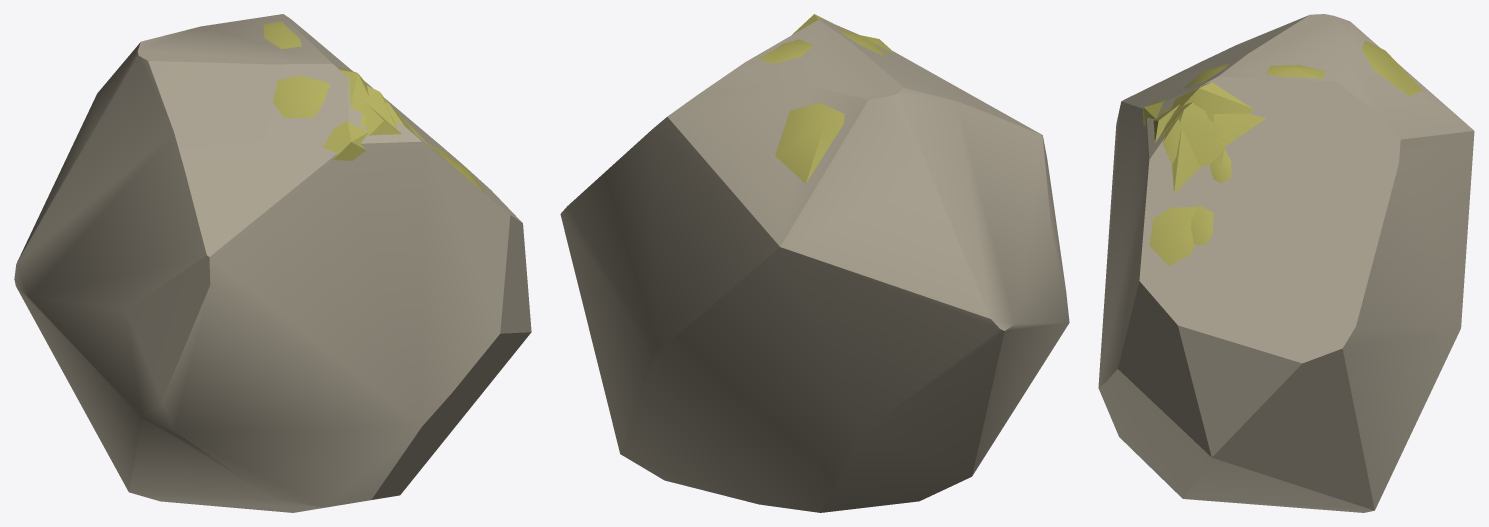
File: rock-0.glb
3 views of the same model, side by side, from view 1: azimuth 30°, elevation 25°; view 2: azimuth 150°, elevation 25°; view 3: azimuth 270°, elevation 25° (orthographic). The views are drawn at different scales.
Visible parts, largest first — view 1: rock-0; view 2: rock-0; view 3: rock-0.
Part boxes in pixels (x1,y1,x2,y2): rock-0: (14, 14, 531, 512); rock-0: (560, 14, 1069, 512); rock-0: (1098, 14, 1474, 512).
Size of the model in its own units: 1.34 by 1.22 by 1.03.
